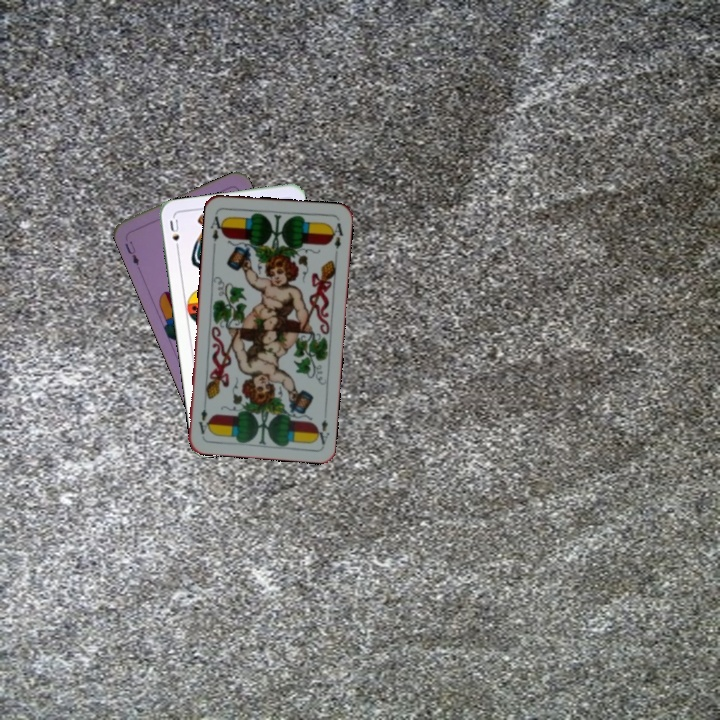EA: (207, 212, 227, 244), (312, 416, 332, 447)
EU: (121, 237, 142, 272)
SU: (166, 215, 182, 255)
